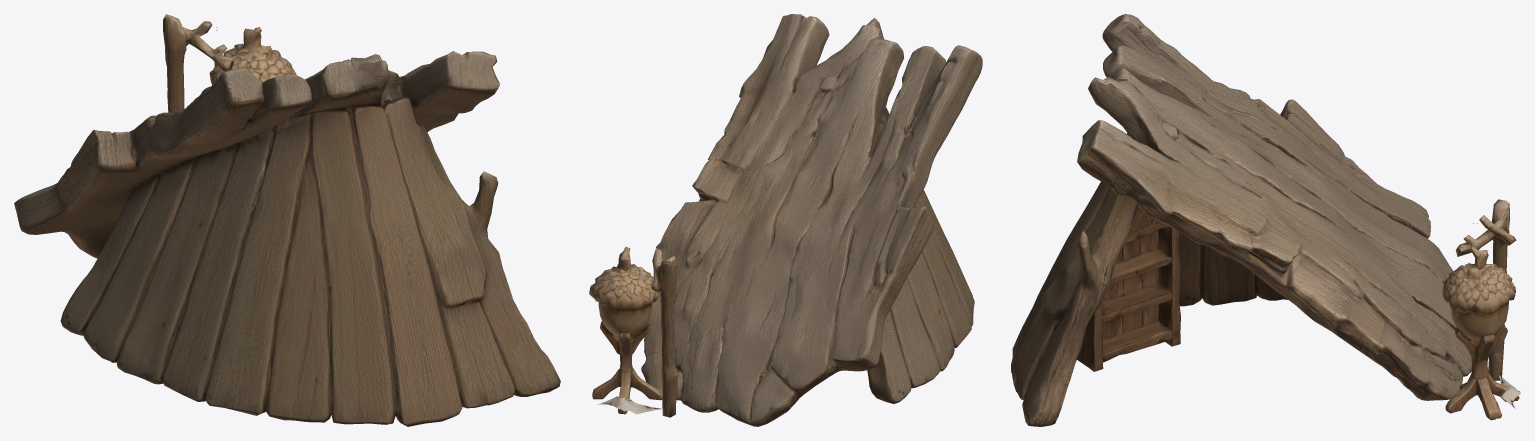
File: tripo_convert_1164e67d-71e0-4e02-8d3f-eca3d067d5d2.fbx
3 views of the same model, side by side, from view 1: azimuth 30°, elevation 25°; view 2: azimuth 150°, elevation 25°; view 3: azimuth 270°, elevation 25° (orthographic). The views are drawn at different scales.
Parts seen in each view (by area): view 1: tripo_node_1164e67d; view 2: tripo_node_1164e67d; view 3: tripo_node_1164e67d.
Boxes of the visible parts, x1=… form: tripo_node_1164e67d: x1=14, y1=14, x2=560, y2=426; tripo_node_1164e67d: x1=589, y1=14, x2=982, y2=426; tripo_node_1164e67d: x1=1011, y1=14, x2=1520, y2=426.
Bounding box in the file's own units: 0.6375 × 0.6473 × 1.
1 material, 1 textured.
